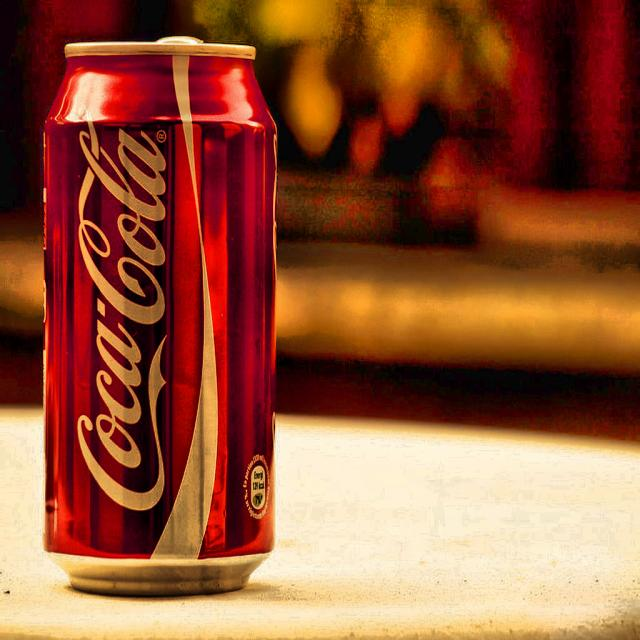Cans: (29, 20, 300, 608)
